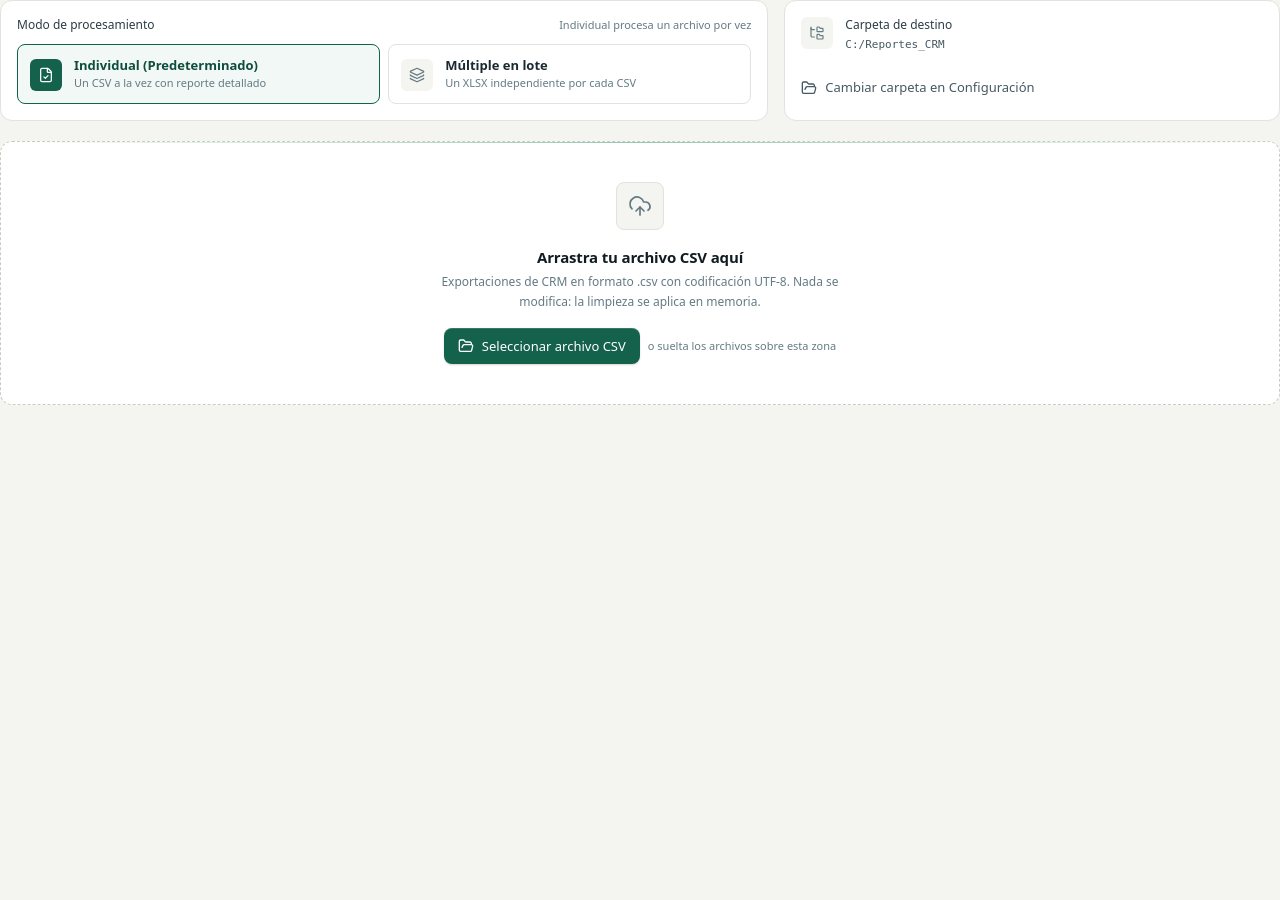
Test: HomeScreen (Phase 4 Import and Modes) › switches to Multiple mode from the resolution dialog
Click the button "Seleccionar archivo CSV".
click(542, 346)  # box left=444, top=328, right=640, bottom=364
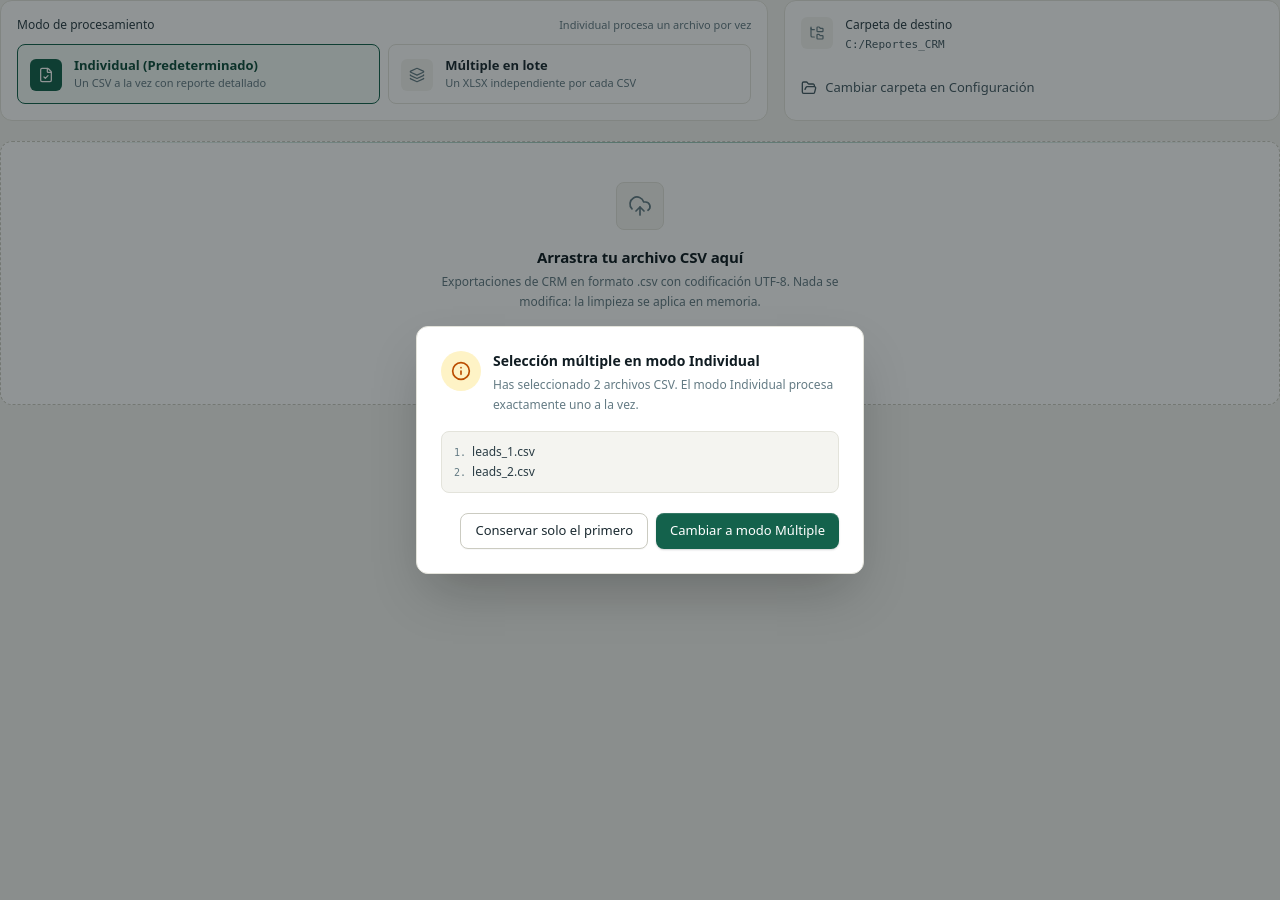
Expected: the heading "Selección múltiple en modo Individual" is shown, left=493, top=351, right=760, bottom=370
Click "Cambiar a modo Múltiple"
Click the button "Cambiar a modo Múltiple".
click(748, 531)  # box left=656, top=513, right=839, bottom=549
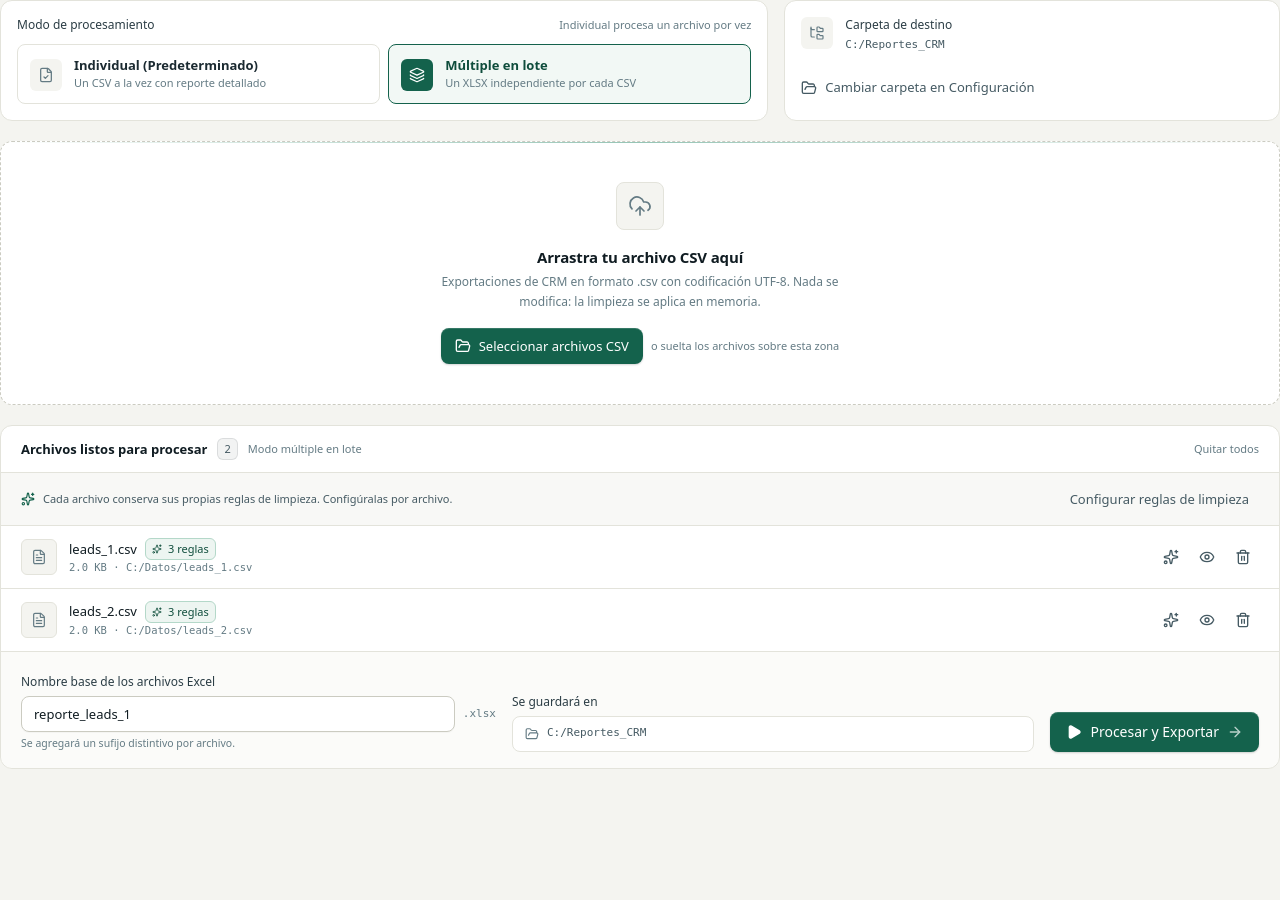
Expected: the text "leads_1.csv" is shown, left=69, top=540, right=137, bottom=559
Expected: the text "leads_2.csv" is shown, left=69, top=602, right=137, bottom=622
Expected: the text "Modo múltiple en lote" is shown, left=248, top=441, right=362, bottom=458
